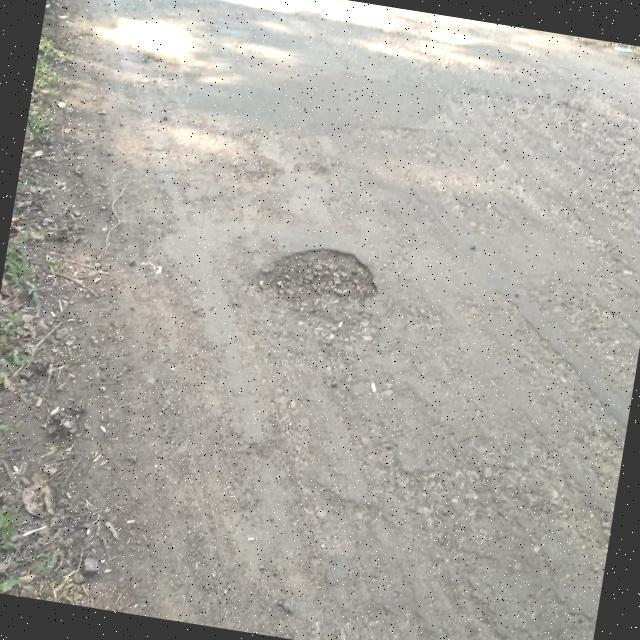Pothole: (253, 247, 378, 319)
